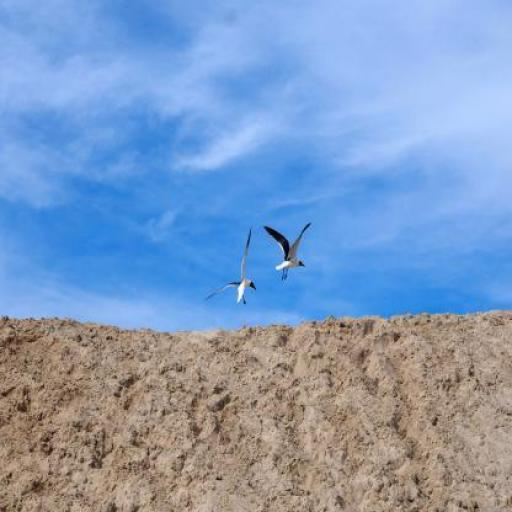bird: (205, 228, 256, 305), (264, 223, 311, 280)
